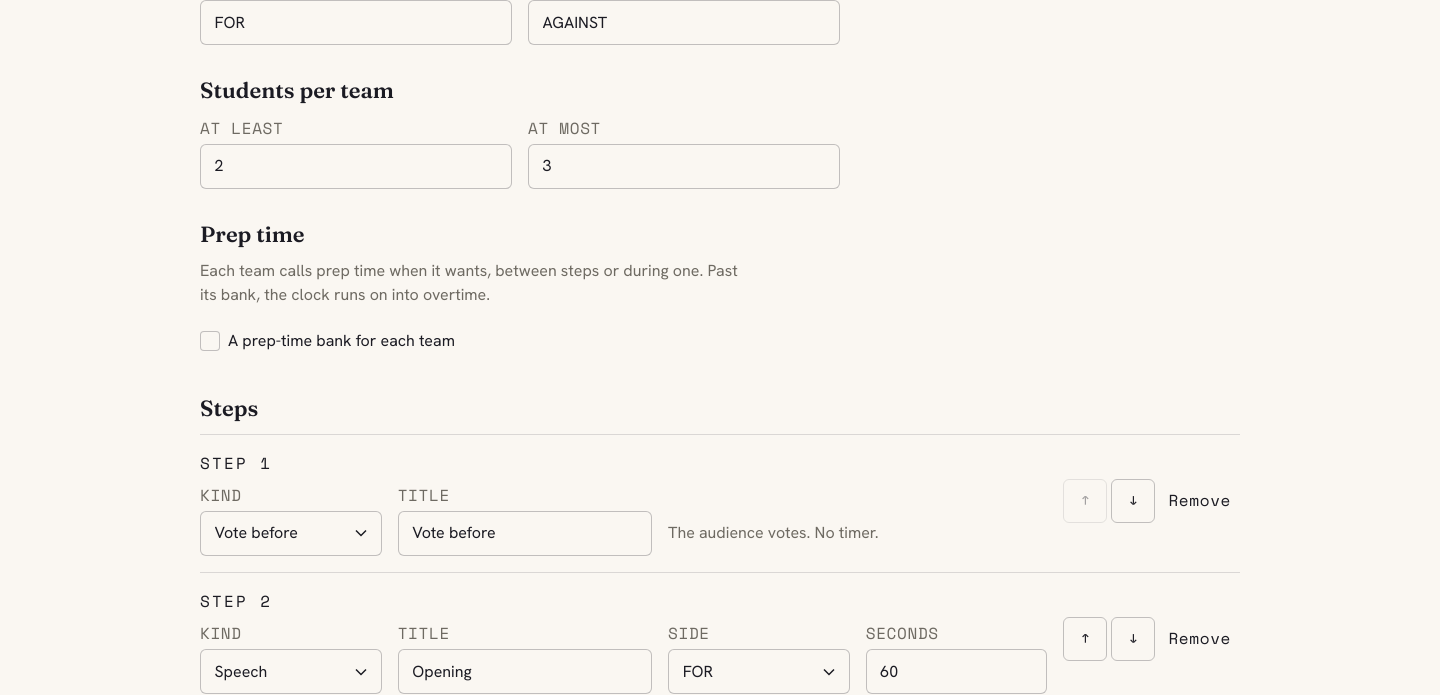
Scenario: the format › switches a prep-time bank on and off, and sets how much each team gets
(page scrolled)
Click the checkbox labelled "A prep-time bank for each team". click: (327, 341)
box: [200, 330, 455, 351]
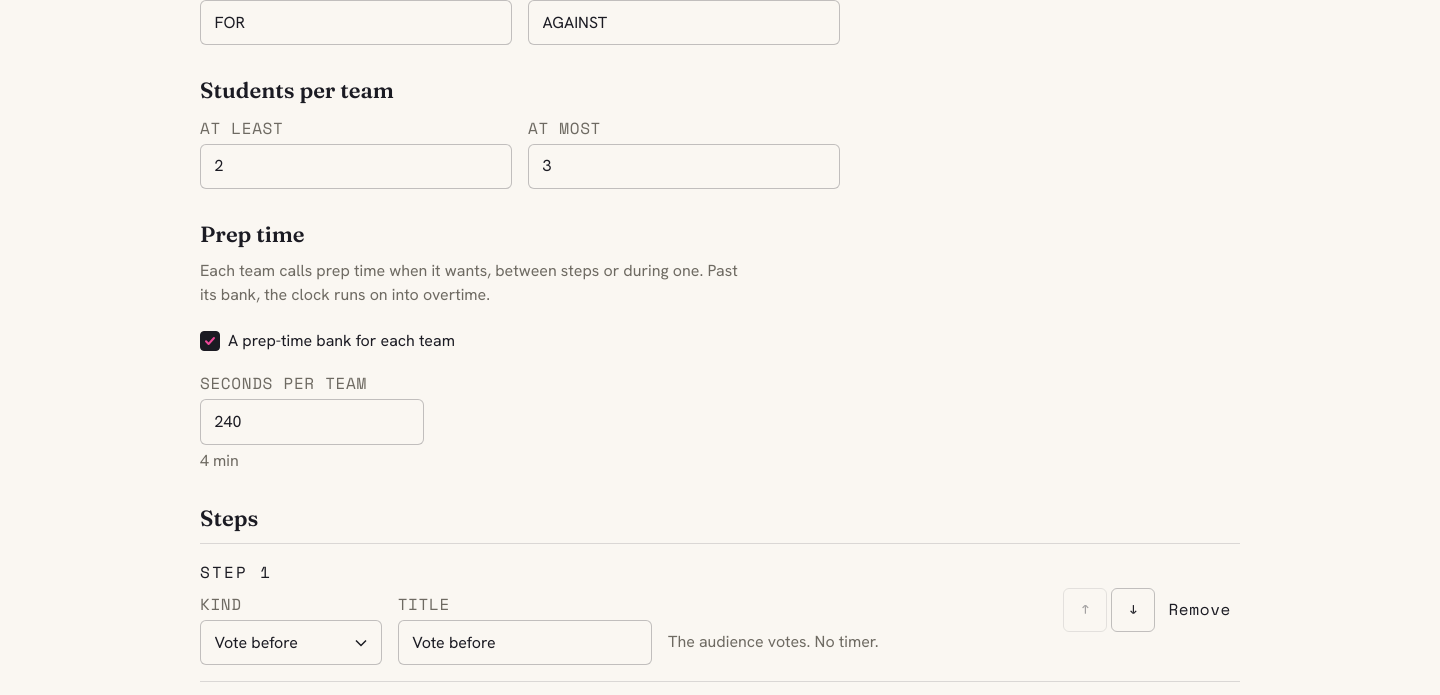
Check: the checkbox labelled "A prep-time bank for each team" is checked, box [200, 330, 455, 351]
Check: the number field labelled "Seconds per team" holds "240"
Replace the text in the number field labelled "Seconds per team" with "0". click: (312, 422)
box: [200, 399, 424, 445]
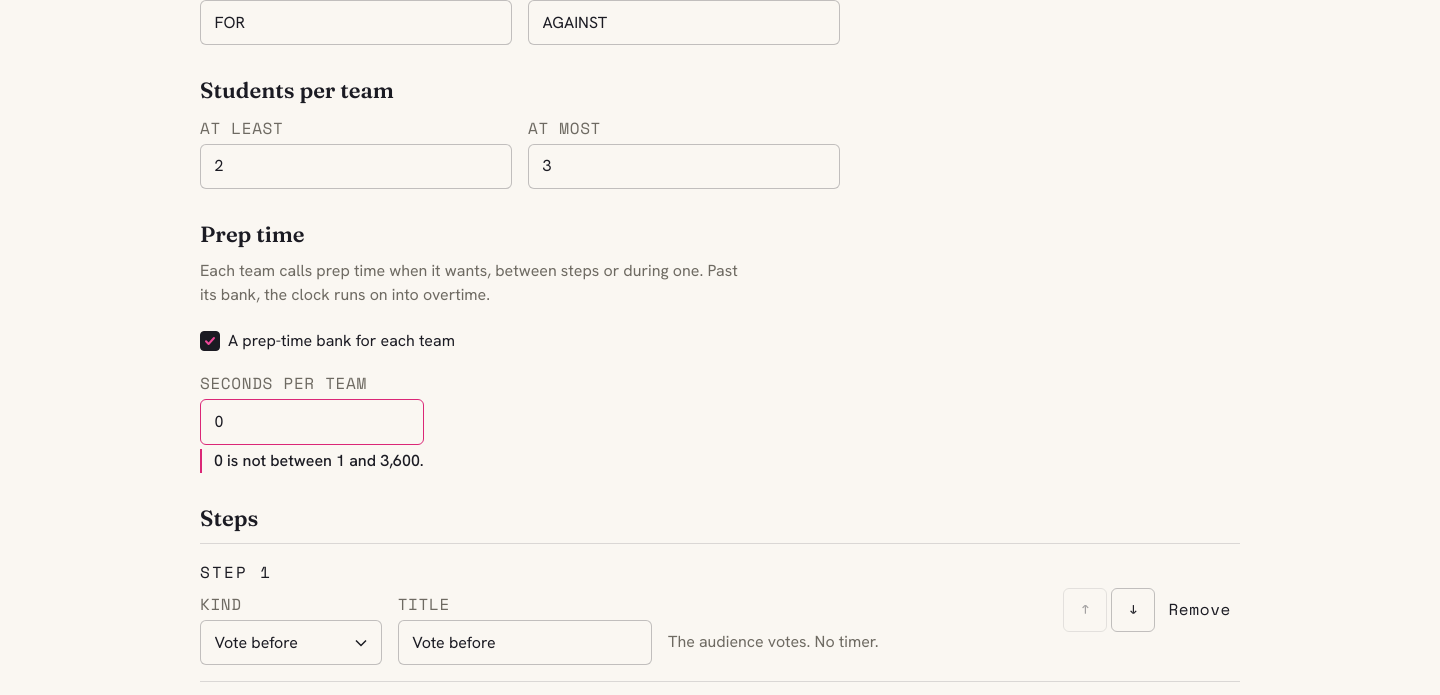
Replace the text in the number field labelled "Seconds per team" with "90". click: (312, 422)
box: [200, 399, 424, 445]
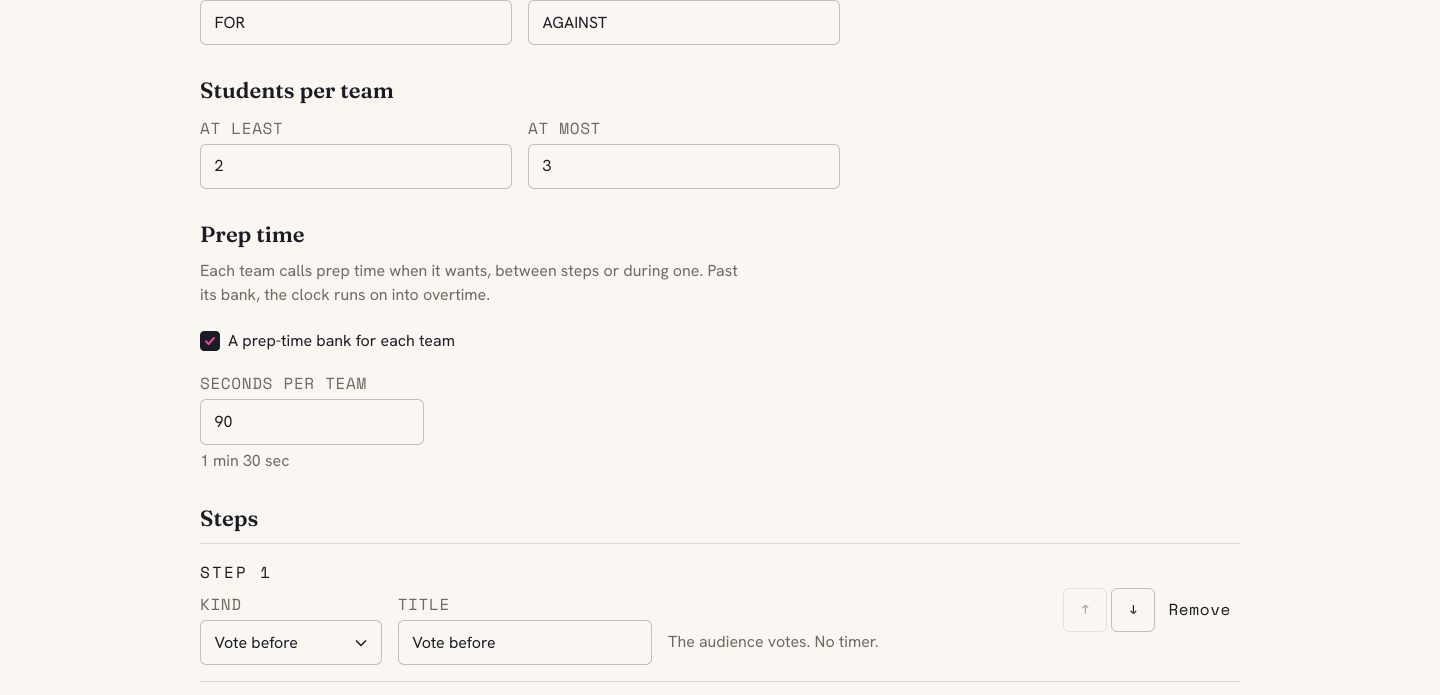
Click the checkbox labelled "A prep-time bank for each team". click: (327, 341)
box: [200, 330, 455, 351]
(page scrolled)
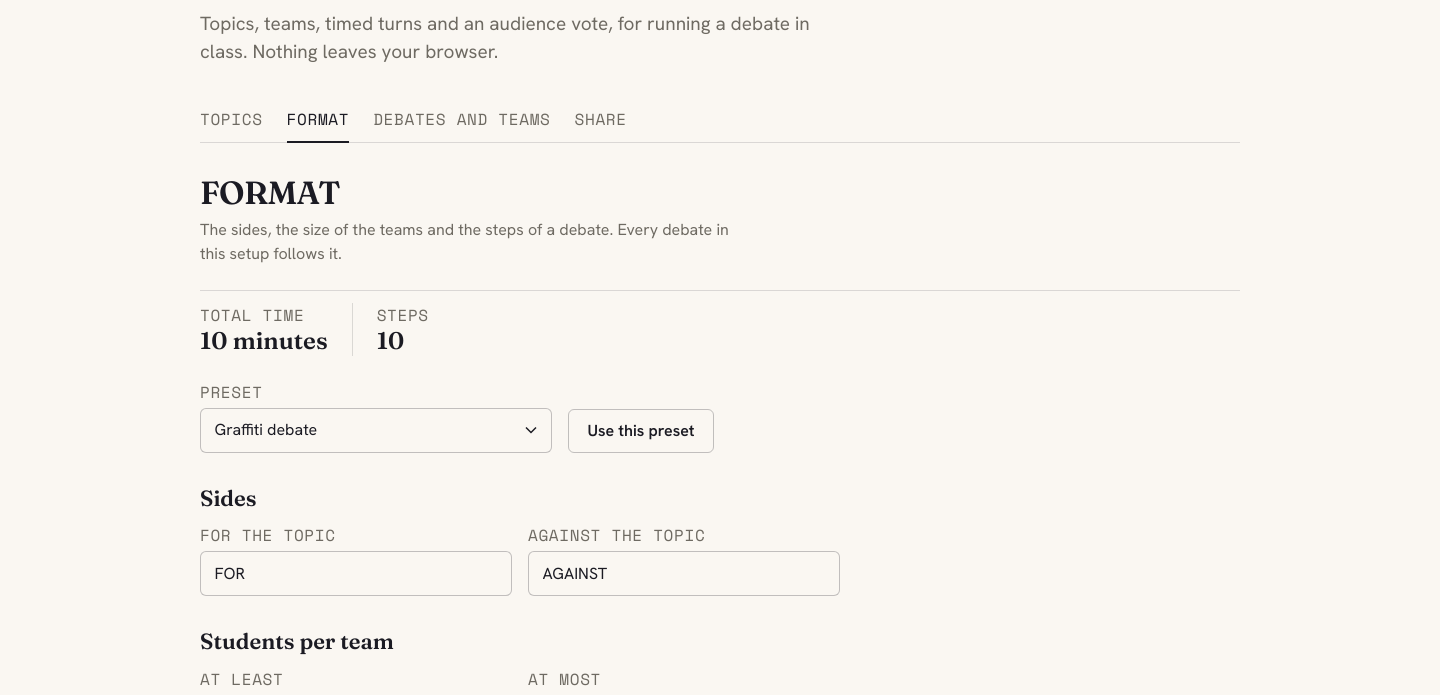
Check: the text "10 minutes" is shown, box [200, 327, 328, 356]
